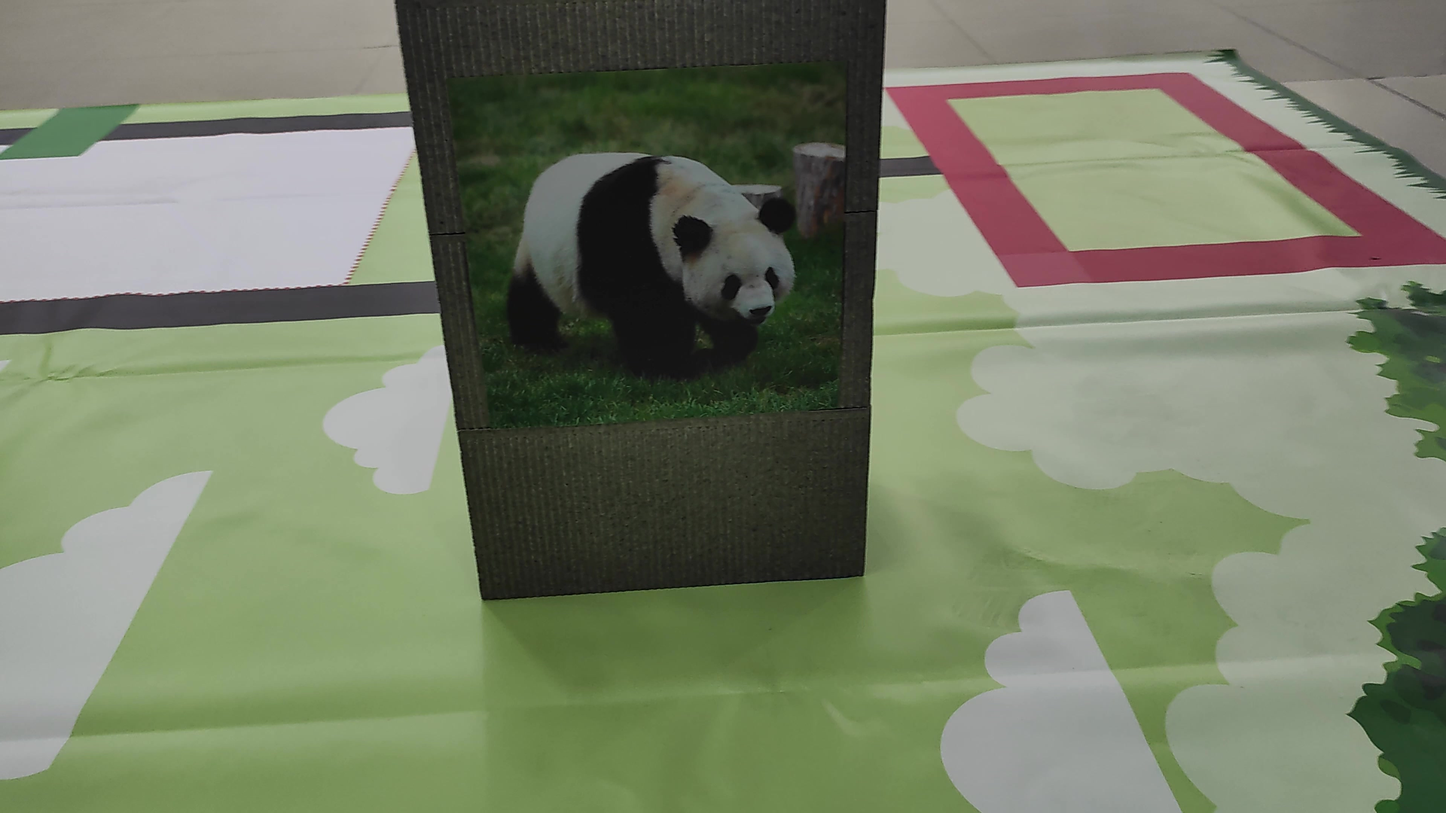panda: (480, 119, 824, 406)
